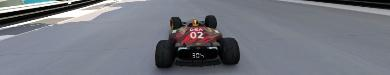Car: (154, 15, 240, 68)
